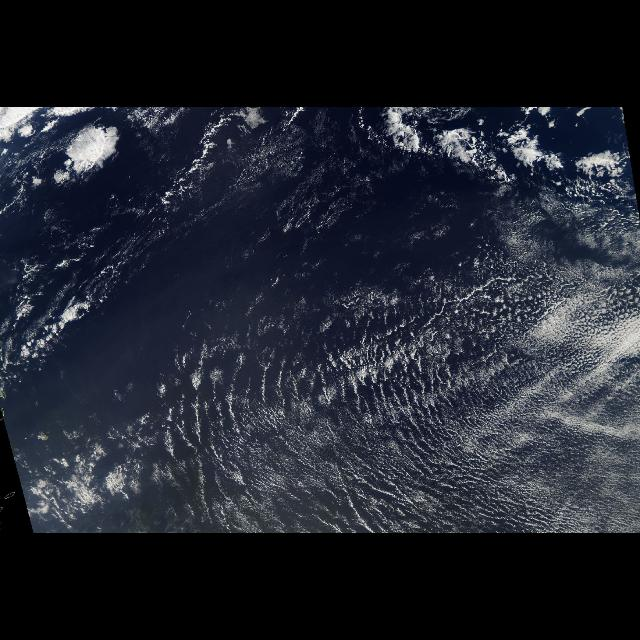Sugar: (177, 271, 639, 534)
